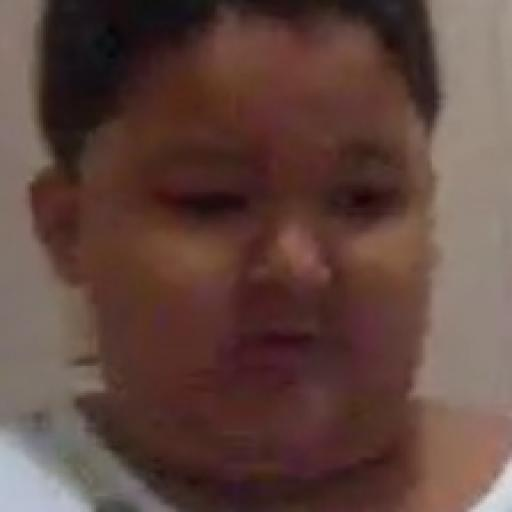Autism: (18, 0, 498, 512)
